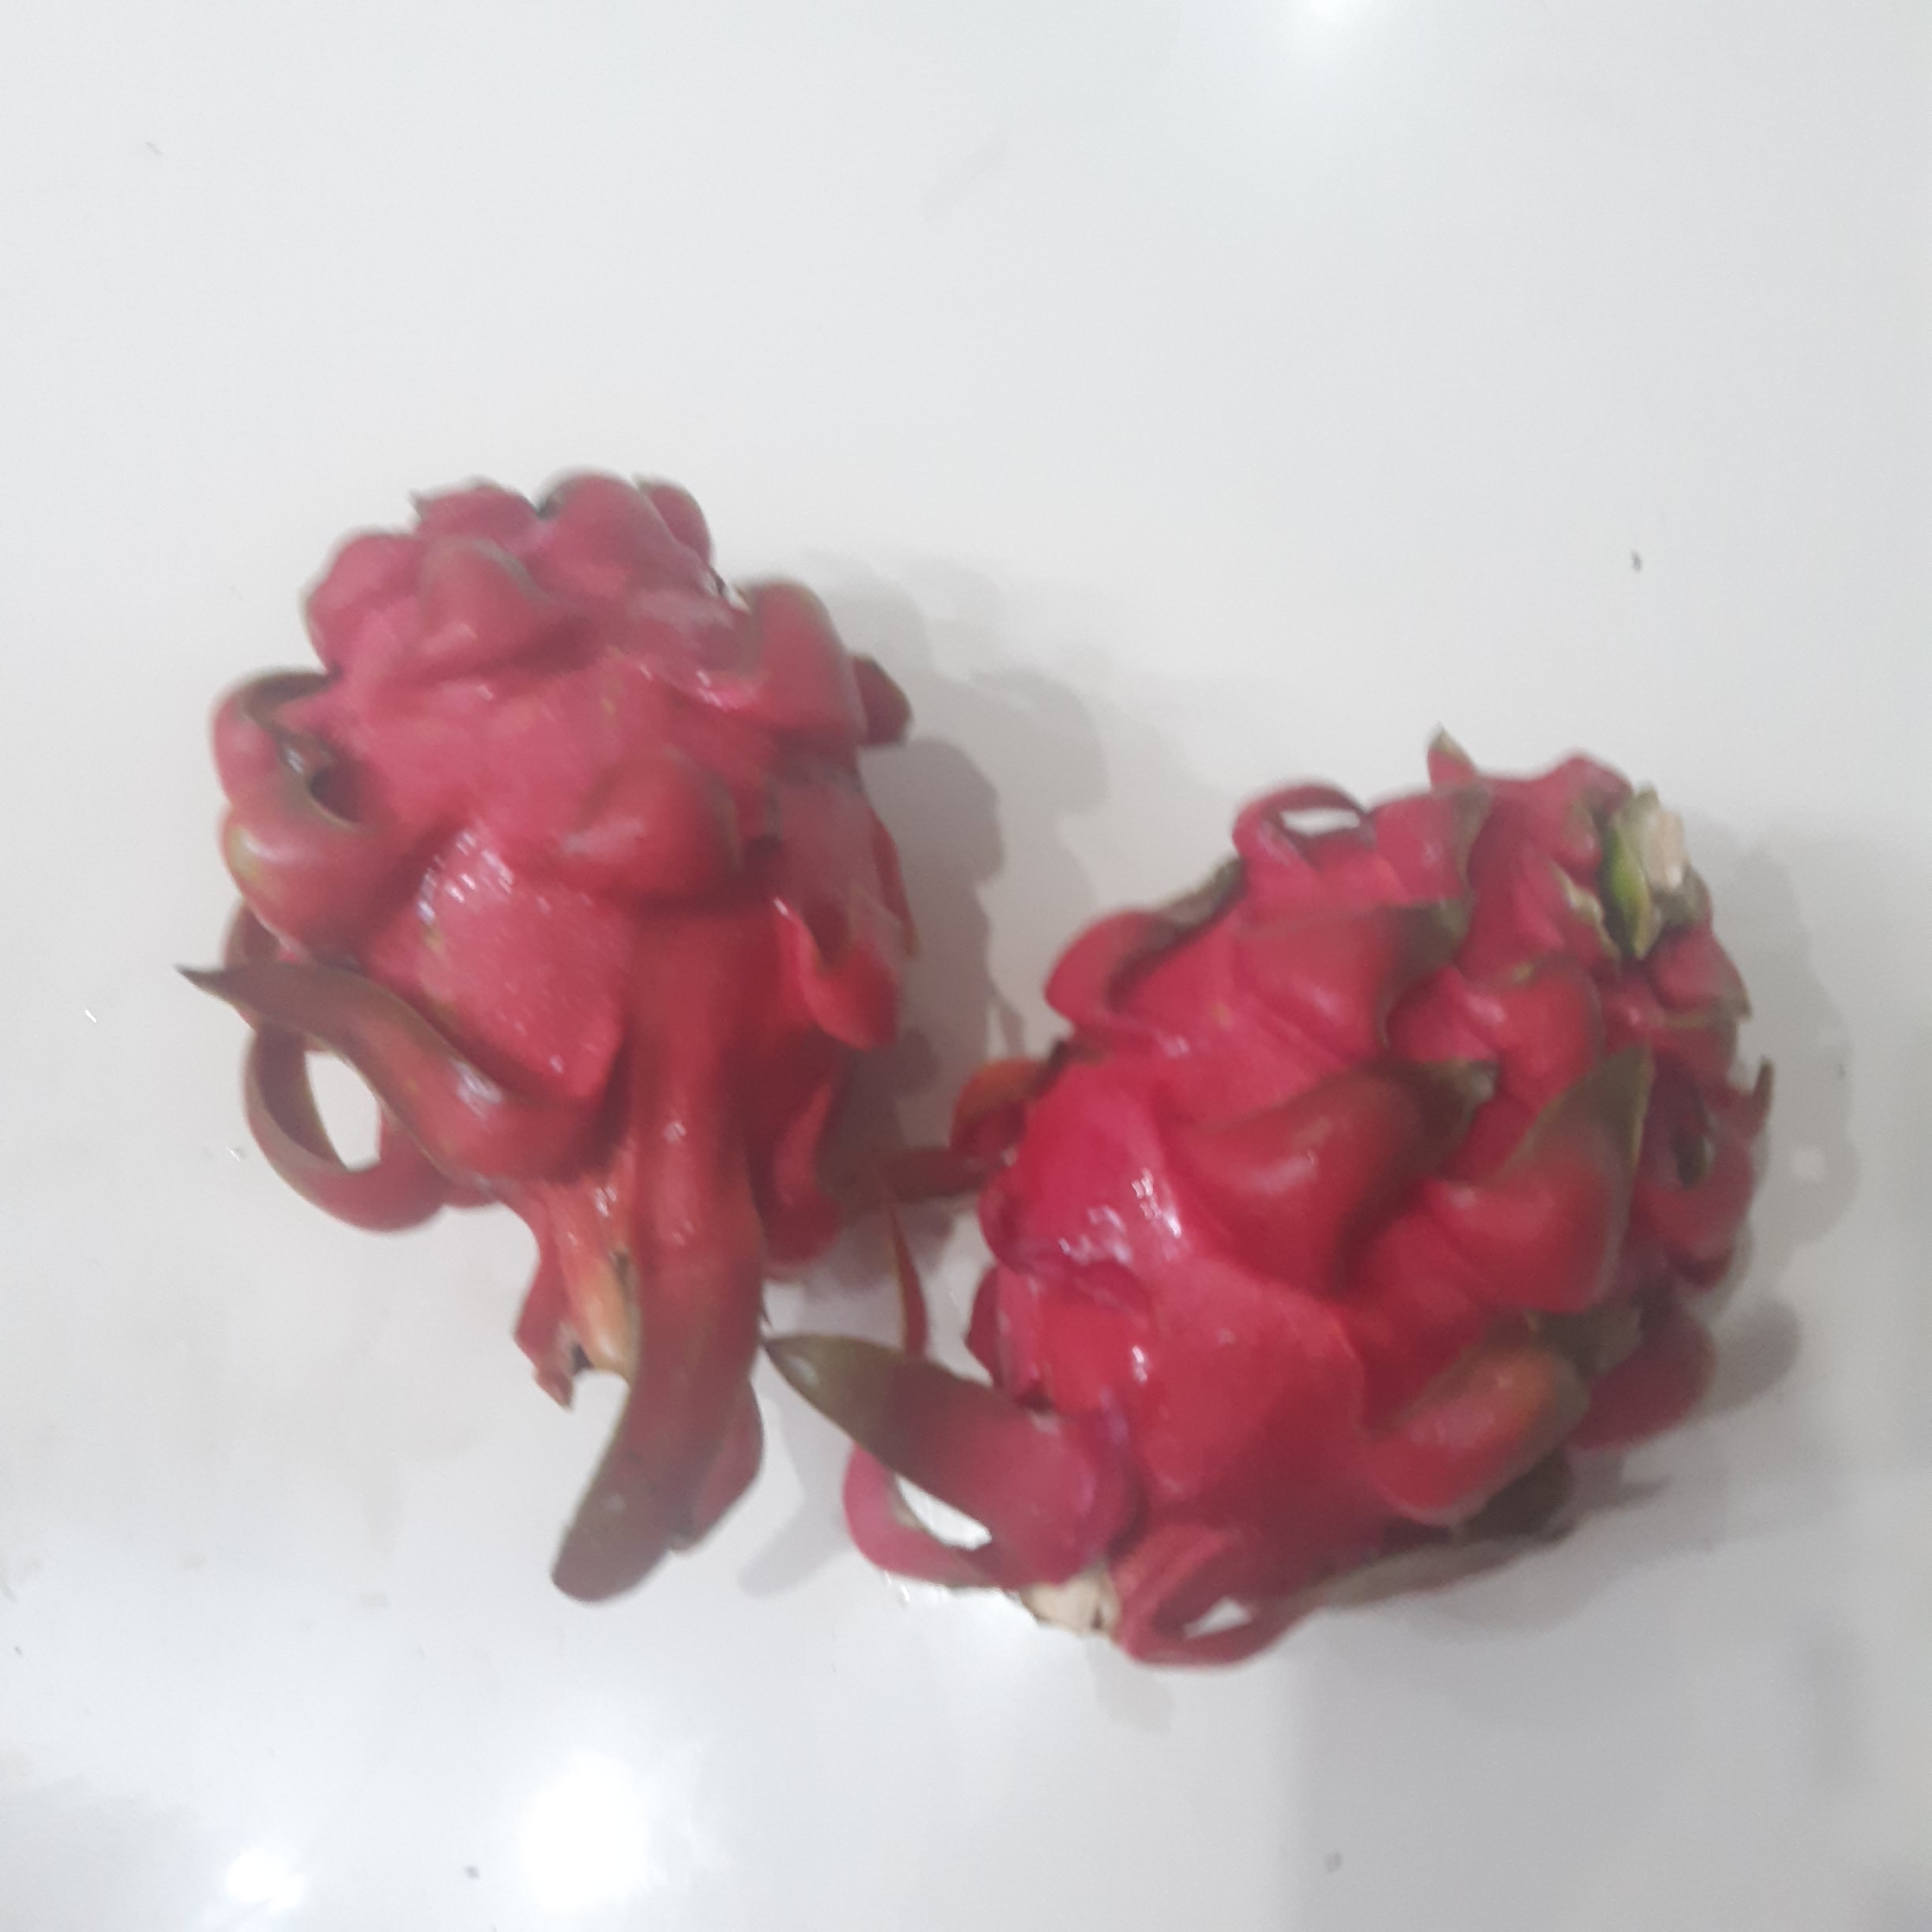Thanh long: (918, 807, 1755, 1612), (246, 511, 881, 1329)
